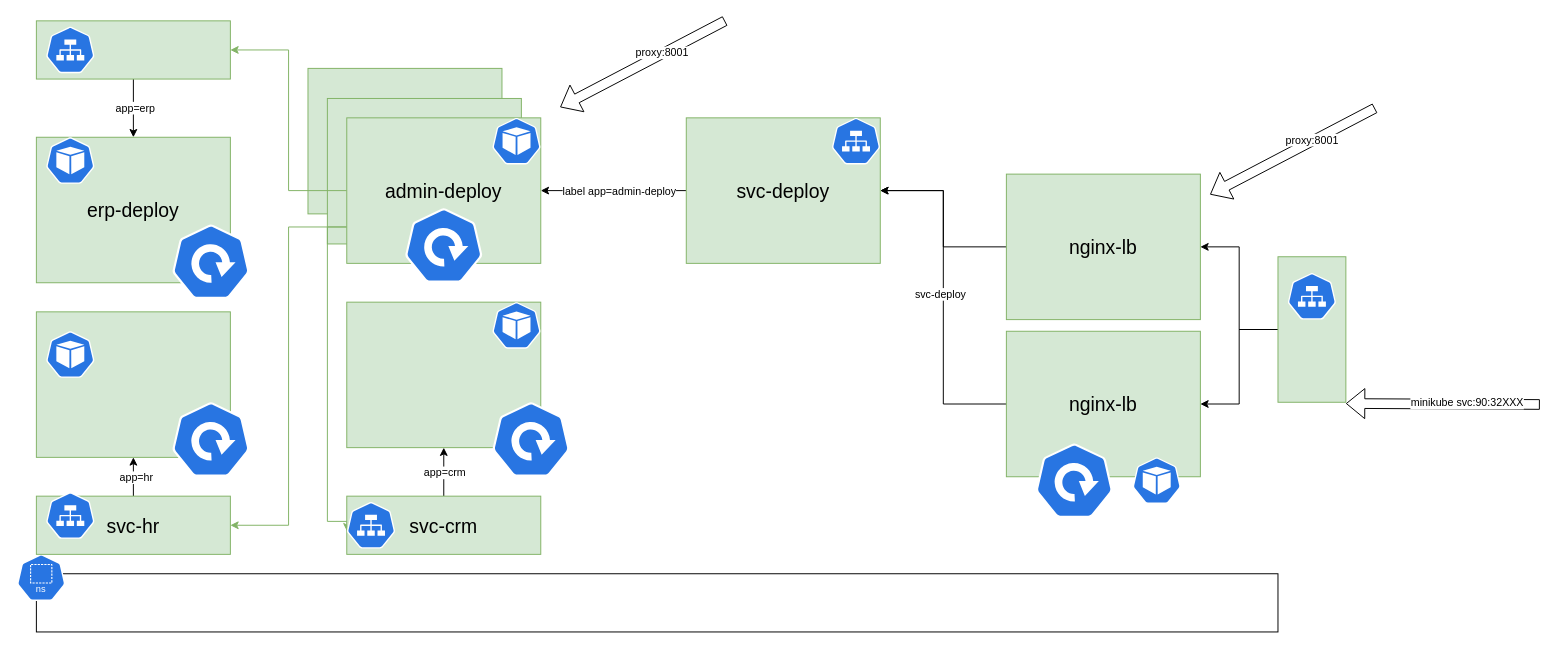
This 1557x650 diagram has some shape labels left out. The shapes that lost their labels are listed below. From the top down, each one's box as (x1, y1, x2, y2) in pixels, then its label:
(35, 20, 230, 79): svc-erp
(1277, 256, 1346, 402): svc-nginx-lb
(35, 311, 230, 457): hr-deploy
(346, 301, 541, 448): crm-deploy
(35, 573, 1278, 632): namespace default
